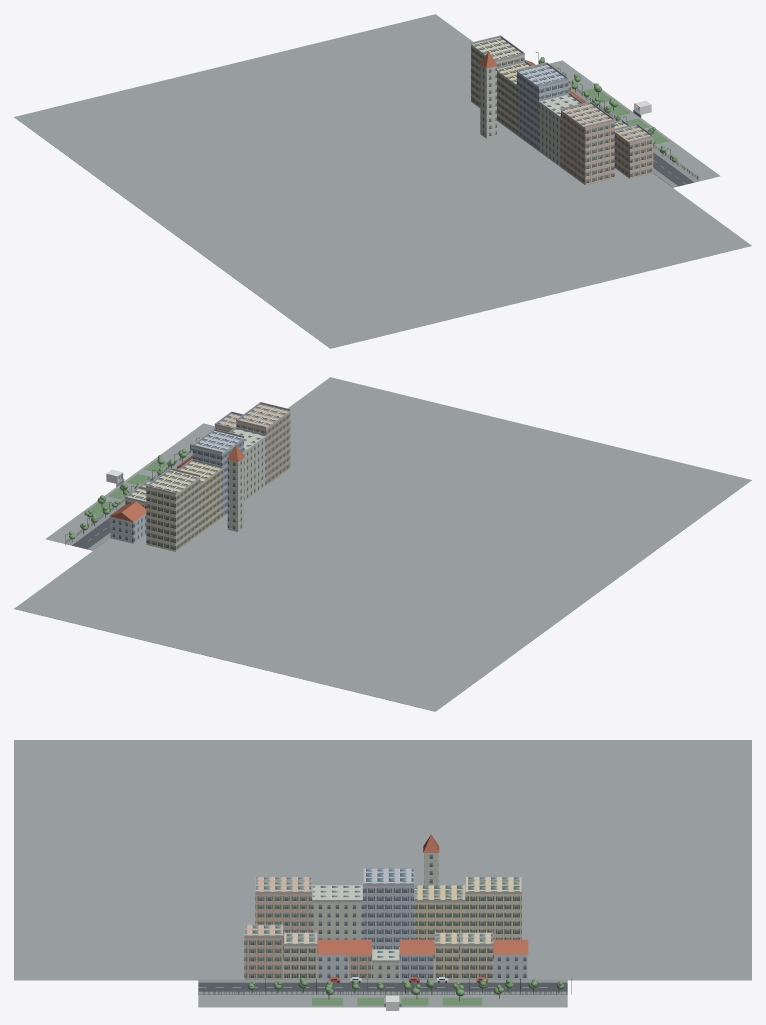
The model's file is esperimento.glb.
The picture shows the model from 3 angles, top to bottom: view 1: azimuth 30°, elevation 25°; view 2: azimuth 150°, elevation 25°; view 3: azimuth 270°, elevation 25°; orthographic projection. The views are drawn at different scales.
Visible parts, largest first — view 1: Ground, House20, House22, Yard, House8, House21, House24, House23, BellTower, TreeCanopies, Lawn; view 2: Ground, House24, House20, Yard, House23, House22, House21, BellTower, House7, TreeCanopies, Lawn; view 3: Ground, House22, Yard, House24, House20, Road, House21, House23, Pavements, House8, House0, House6 (+13 smaller).
Boxes of the visible parts, left/top/right/bottom form: Ground: left=14, top=14, right=751, bottom=348; House20: left=561, top=103, right=614, bottom=185; House22: left=517, top=64, right=568, bottom=151; Yard: left=549, top=60, right=720, bottom=181; House8: left=614, top=125, right=653, bottom=178; House21: left=539, top=94, right=580, bottom=167; House24: left=471, top=37, right=524, bottom=107; House23: left=497, top=62, right=529, bottom=134; BellTower: left=480, top=64, right=496, bottom=138; TreeCanopies: left=538, top=57, right=677, bottom=162; Lawn: left=583, top=88, right=668, bottom=144; Ground: left=14, top=377, right=751, bottom=711; House24: left=146, top=470, right=199, bottom=551; House20: left=236, top=404, right=290, bottom=485; Yard: left=45, top=423, right=214, bottom=543; House23: left=180, top=461, right=221, bottom=533; House22: left=192, top=431, right=243, bottom=517; House21: left=231, top=429, right=265, bottom=501; BellTower: left=227, top=458, right=243, bottom=531; House7: left=110, top=513, right=146, bottom=543; TreeCanopies: left=69, top=443, right=193, bottom=539; Lawn: left=87, top=459, right=167, bottom=516; Ground: left=14, top=740, right=751, bottom=980; House22: left=363, top=868, right=414, bottom=960; Yard: left=198, top=995, right=567, bottom=1007; House24: left=465, top=877, right=521, bottom=960; House20: left=255, top=877, right=311, bottom=960; Road: left=198, top=983, right=567, bottom=991; House21: left=312, top=885, right=362, bottom=960; House23: left=414, top=885, right=465, bottom=960; Pavements: left=198, top=979, right=567, bottom=994; House8: left=244, top=924, right=283, bottom=979; House0: left=284, top=932, right=317, bottom=979; House6: left=460, top=932, right=493, bottom=979.
Bounding box in the file's own units: 228 × 38.11 × 260.
83 materials, 7 textured.
